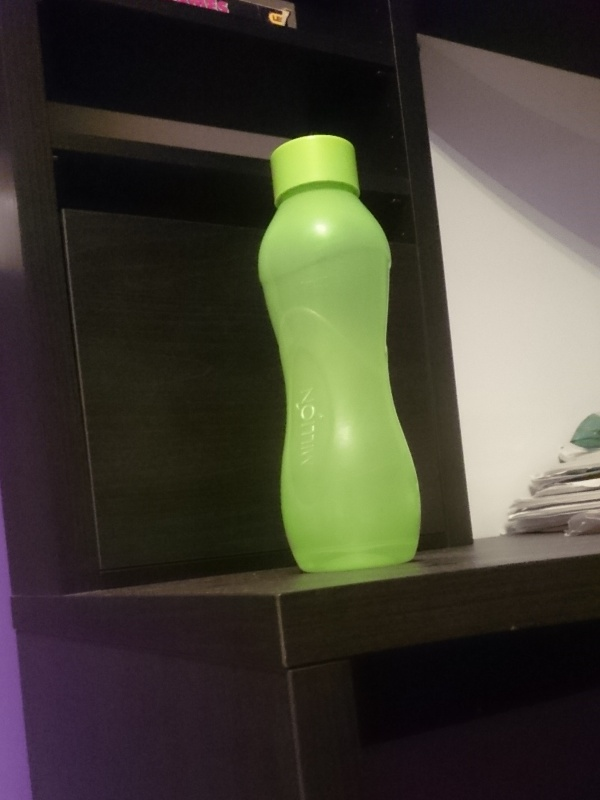my bottle: (260, 137, 423, 572)
